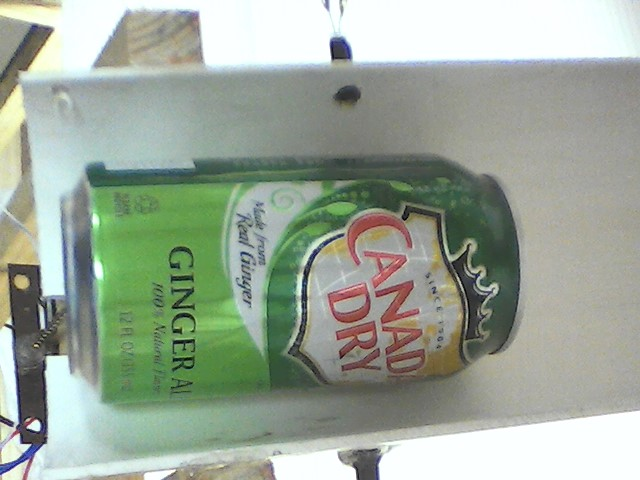lata: (56, 147, 533, 411)
